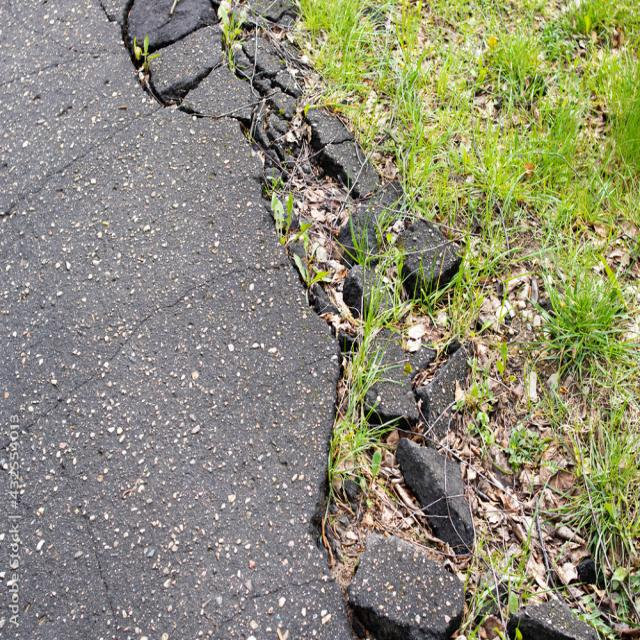Pothole: (78, 0, 639, 640)
